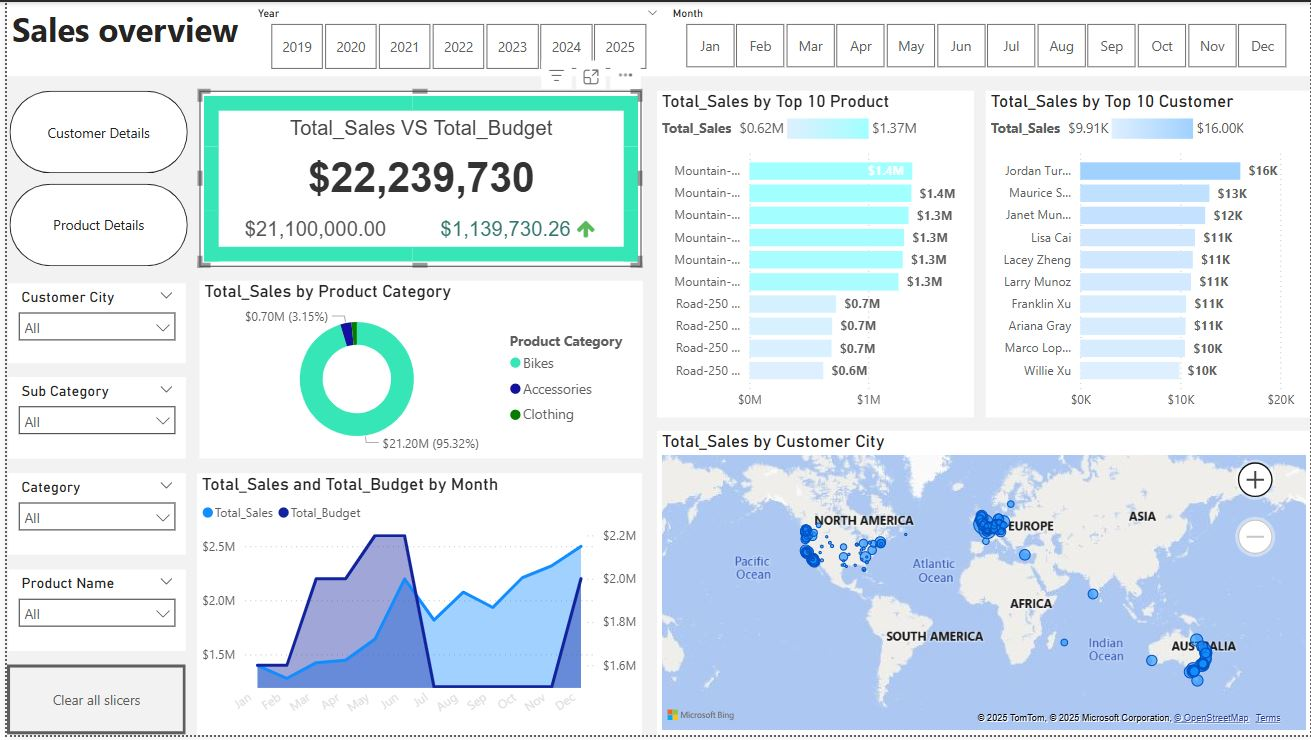

Layout of this report page (visuals, bound fields, positions):
{"tool":"powerbi","page":{"name":"Overview","canvas":[1280,720],"ordinal":0},"visuals":[{"type":"textbox","box":[0,0,1280.3,72.8],"z":0},{"type":"slicer","fields":{"Values":["Dim_Customer.Customer City"]},"box":[1.4,275.9,174.1,78.5],"z":1000},{"type":"slicer","fields":{"Values":["Dim_Product.Sub Category"]},"box":[1.4,368.7,174.1,79.9],"z":2000},{"type":"slicer","fields":{"Values":["Dim_Product.Product Category"]},"box":[1.4,462.9,174.1,79.9],"z":3000},{"type":"slicer","fields":{"Values":["Dim_Product.Product Name"]},"box":[1.4,557.1,174.1,79.9],"z":4000},{"type":"slicer","fields":{"Values":["Dim_Calendar.Year"]},"box":[232.7,0,418.2,72.8],"z":5000},{"type":"slicer","fields":{"Values":["Dim_Calendar.Month_Short"]},"box":[640.9,0,639.4,71.4],"z":6000},{"type":"BBED0A4D4D8D44CE93CF2DAFADEE466C","fields":{"target2":["Fact_InternetSales.Profit"],"actual":["Fact_InternetSales.Total_Sales"],"target1":["Fact_Budget.Total_Budget"]},"box":[188.4,87.1,435.3,172.7],"z":7000},{"type":"donutChart","fields":{"Category":["Dim_Product.Product Category"],"Y":["Fact_InternetSales.Total_Sales"]},"box":[188.4,274,435.3,174.1],"z":8000},{"type":"lineChart","fields":{"Y":["Fact_InternetSales.Total_Sales"],"Y2":["Fact_Budget.Total_Budget"],"Category":["Dim_Calendar.Month_Short"]},"box":[187,462.4,436.8,256.9],"z":9000},{"type":"map","fields":{"Category":["Dim_Customer.Customer City"],"Size":["Fact_InternetSales.Total_Sales"]},"box":[638,421.1,642.3,298.3],"z":10000},{"type":"barChart","fields":{"Y":["Fact_InternetSales.Total_Sales"],"Category":["Dim_Customer.Full Name"]},"box":[960.6,87.1,319.7,321.1],"z":11000},{"type":"barChart","fields":{"Y":["Fact_InternetSales.Total_Sales"],"Category":["Dim_Product.Product Name"]},"box":[638,87.1,311.2,321.1],"z":12000},{"type":"pageNavigator","box":[2.9,87.1,175.6,172.7],"z":13000},{"type":"actionButton","box":[0,650.8,175.6,68.5],"z":14000}]}

Visuals, with their boxes in screenshot pixels (x1, y1, x2, y2), scaled from the page's 1280x720 canvas onto the 1311x740 screenshot:
textbox: 0, 0, 1310, 75
slicer - Dim_Customer.Customer City: 1, 284, 180, 364
slicer - Dim_Product.Sub Category: 1, 379, 180, 461
slicer - Dim_Product.Product Category: 1, 476, 180, 558
slicer - Dim_Product.Product Name: 1, 573, 180, 655
slicer - Dim_Calendar.Year: 238, 0, 667, 75
slicer - Dim_Calendar.Month_Short: 656, 0, 1310, 73
BBED0A4D4D8D44CE93CF2DAFADEE466C - Fact_InternetSales.Profit x Fact_InternetSales.Total_Sales: 193, 90, 639, 267
donutChart - Dim_Product.Product Category x Fact_InternetSales.Total_Sales: 193, 282, 639, 461
lineChart - Fact_InternetSales.Total_Sales x Fact_Budget.Total_Budget: 192, 475, 639, 739
map - Dim_Customer.Customer City x Fact_InternetSales.Total_Sales: 653, 433, 1310, 739
barChart - Fact_InternetSales.Total_Sales x Dim_Customer.Full Name: 984, 90, 1310, 420
barChart - Fact_InternetSales.Total_Sales x Dim_Product.Product Name: 653, 90, 972, 420
pageNavigator: 3, 90, 183, 267
actionButton: 0, 669, 180, 739
